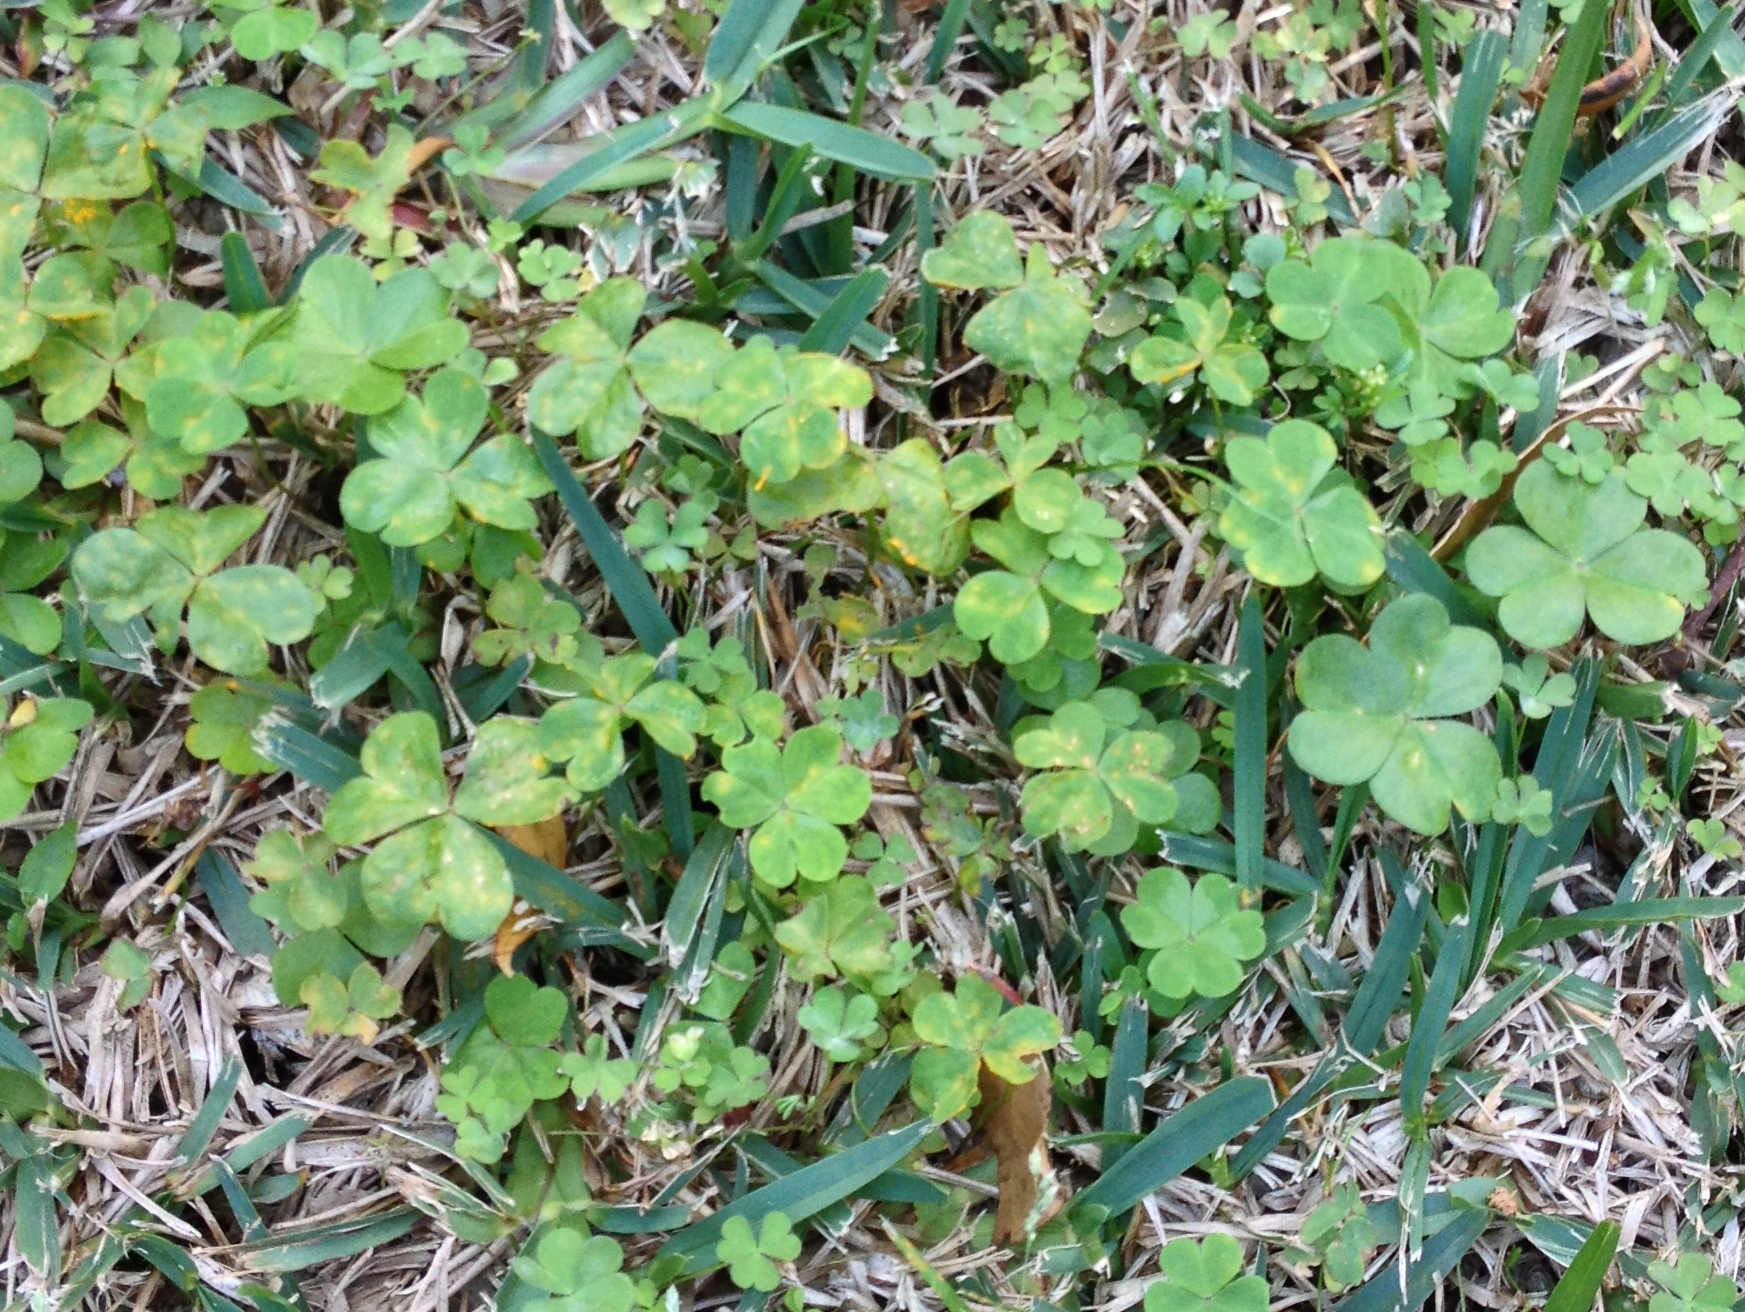oxalis: (91, 198, 1636, 1002)
